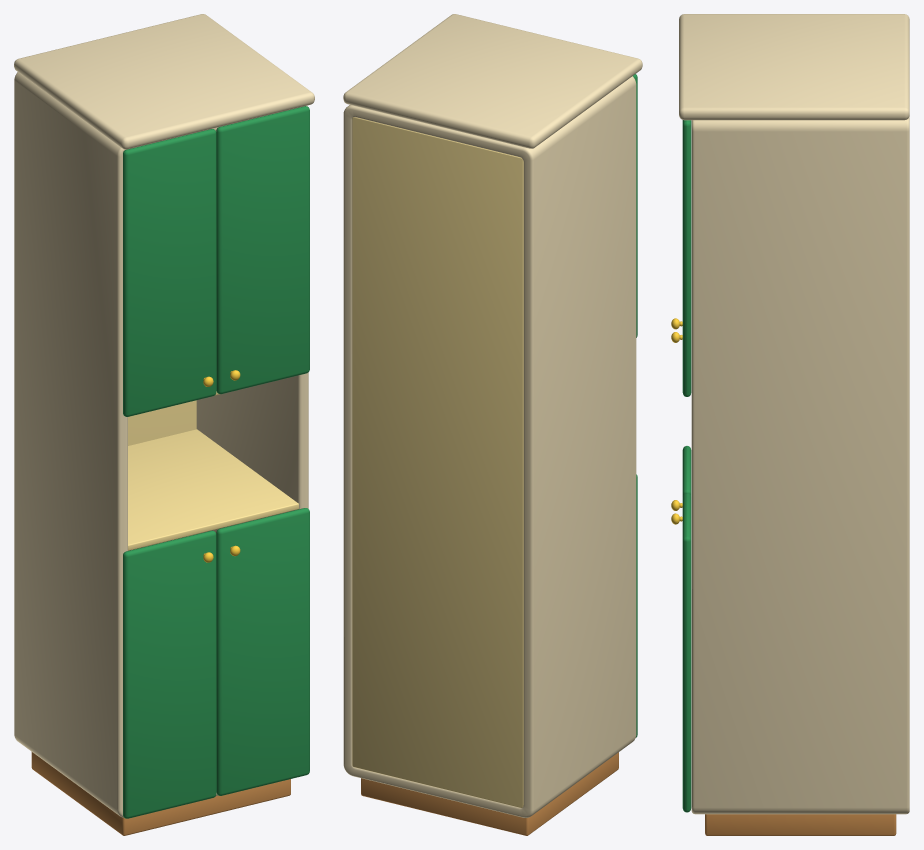
The model's file is paneleiro_creme.glb.
The picture shows the model from 3 angles, left to right: view 1: azimuth 30°, elevation 25°; view 2: azimuth 150°, elevation 25°; view 3: azimuth 270°, elevation 25°; orthographic projection. The views are drawn at different scales.
Parts seen in each view (by area): view 1: paneleiro_creme, porta_3, porta_4, porta_2, porta_1; view 2: paneleiro_creme; view 3: paneleiro_creme, porta_4, porta_2, porta_3.
Boxes of the visible parts, box(x1,y1,x2,y2) form: paneleiro_creme: box(14, 14, 314, 835); porta_3: box(123, 530, 216, 818); porta_4: box(216, 508, 309, 795); porta_2: box(216, 106, 309, 394); porta_1: box(123, 129, 216, 416); paneleiro_creme: box(343, 14, 642, 835); paneleiro_creme: box(679, 14, 909, 835); porta_4: box(671, 493, 691, 812); porta_2: box(671, 120, 691, 396); porta_3: box(671, 446, 691, 510).
Bounding box in the file's own units: 0.598 × 2.1 × 0.619.
1 material, 1 textured.
